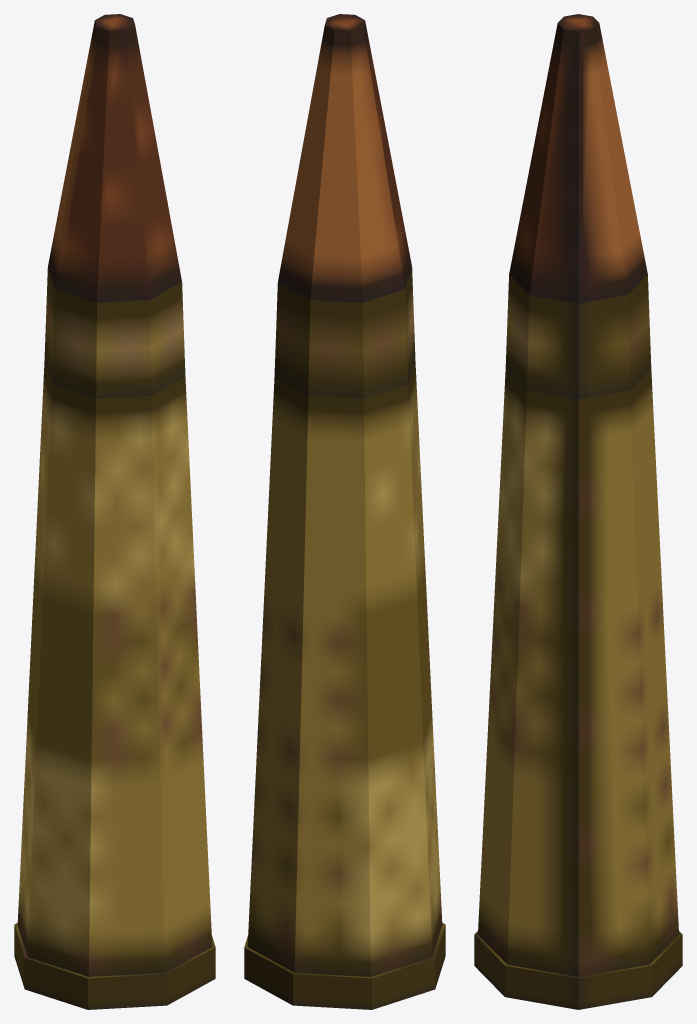
The model's file is SM_Cartridge_01.fbx.
The picture shows the model from 3 angles, left to right: view 1: azimuth 30°, elevation 25°; view 2: azimuth 150°, elevation 25°; view 3: azimuth 270°, elevation 25°; orthographic projection.
Parts seen in each view (by area): view 1: SM_Cartridge_01; view 2: SM_Cartridge_01; view 3: SM_Cartridge_01.
Boxes of the visible parts, <box> form: SM_Cartridge_01: <box>14,14,215,1009</box>; SM_Cartridge_01: <box>244,14,445,1009</box>; SM_Cartridge_01: <box>474,14,682,1009</box>.
Size of the model in its own units: 0.012 by 0.06 by 0.012.
1 material, 1 textured.
